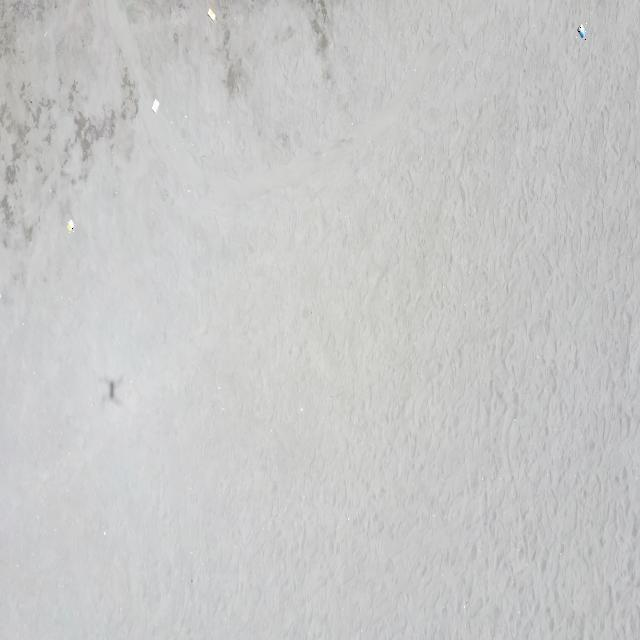Garbage: (65, 219, 74, 232), (576, 24, 584, 37), (207, 8, 215, 20), (151, 100, 158, 111)
